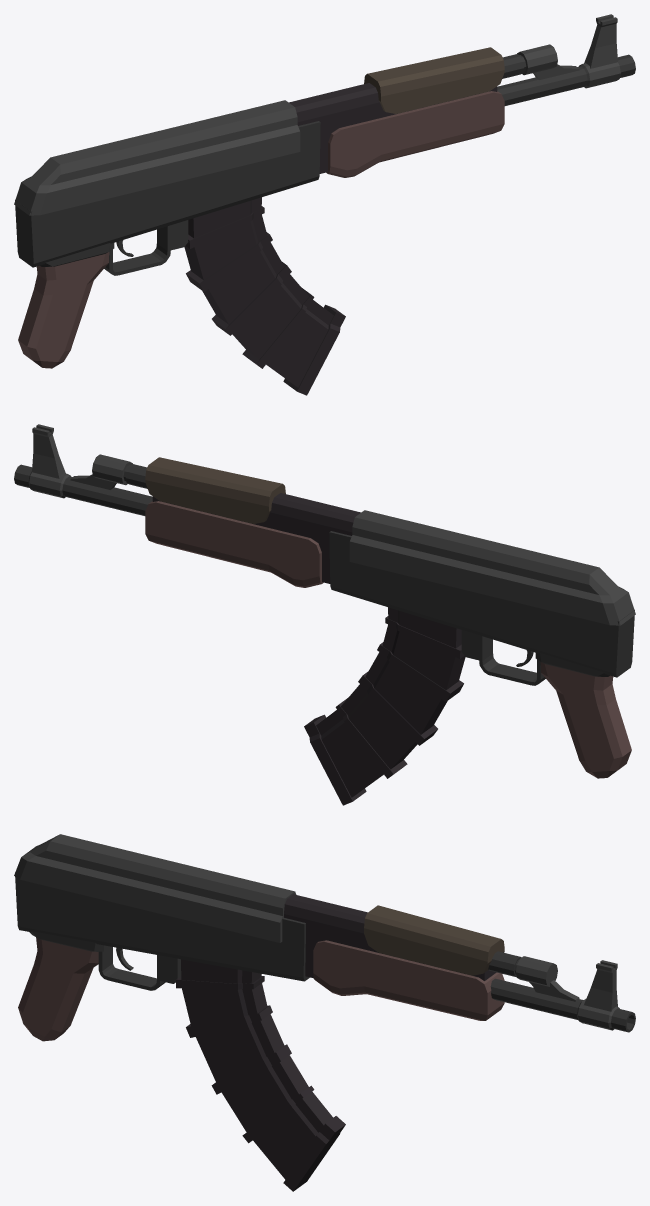
The model's file is quaternius-ultimate-gun-pack-july-assaultrifle-3.glb.
The picture shows the model from 3 angles, top to bottom: view 1: azimuth 30°, elevation 25°; view 2: azimuth 150°, elevation 25°; view 3: azimuth 330°, elevation 25°; orthographic projection.
Visible parts, largest first — view 1: AssaultRifle_3; view 2: AssaultRifle_3; view 3: AssaultRifle_3.
Part boxes in pixels (x1,y1,x2,y2): AssaultRifle_3: (14, 14, 635, 395); AssaultRifle_3: (14, 424, 635, 805); AssaultRifle_3: (14, 834, 635, 1191).
Bounding box in the file's own units: 3.43 × 1.6 × 0.196.
Materials: 1 (1 with a texture image).
